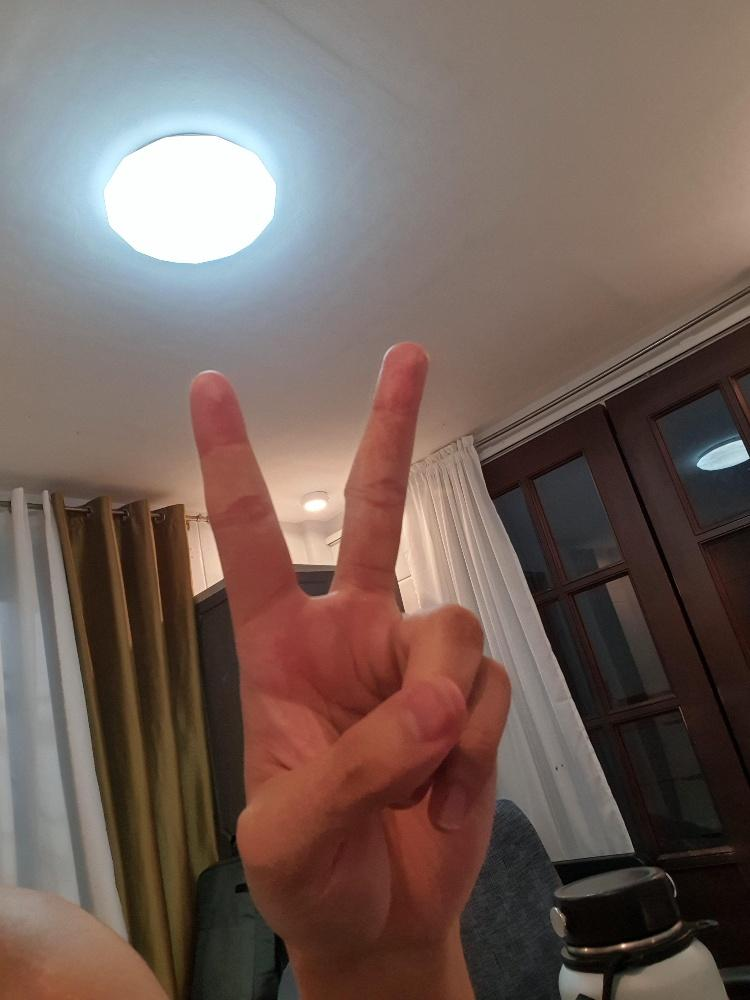v: (185, 337, 513, 960)
